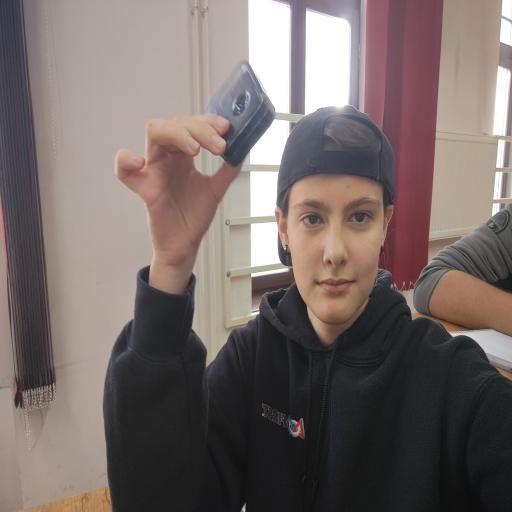CASTI: (207, 58, 280, 173)
